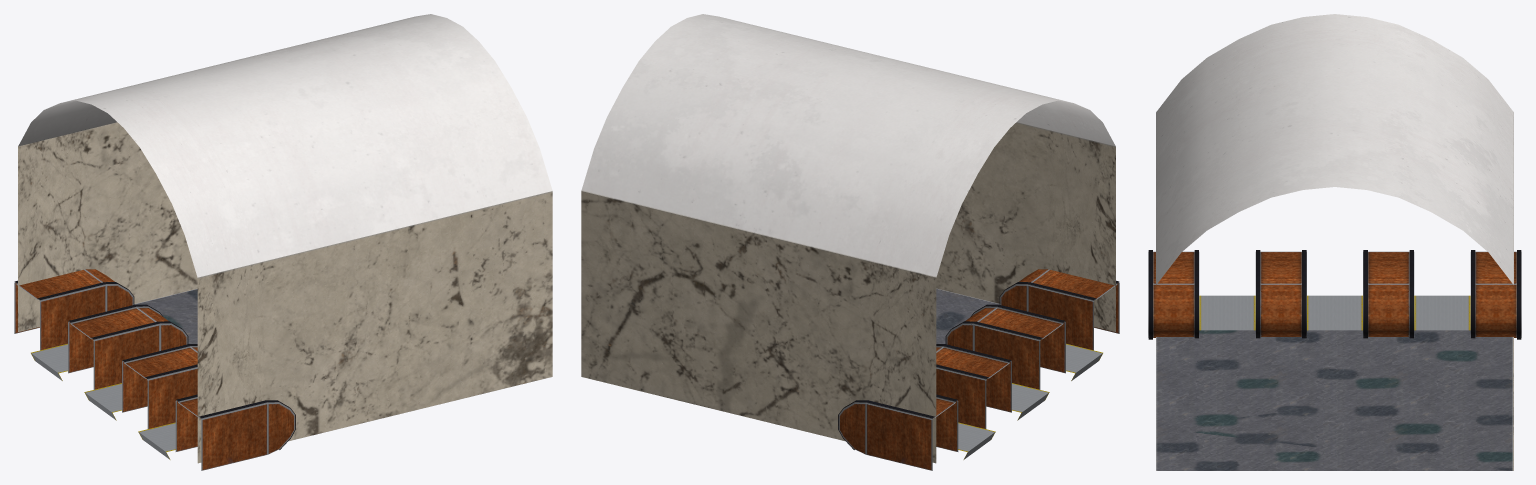
Rendered from interchange escalator top part.fbx.
The picture shows the model from 3 angles, left to right: view 1: azimuth 30°, elevation 25°; view 2: azimuth 150°, elevation 25°; view 3: azimuth 270°, elevation 25°; orthographic projection.
Visible parts, largest first — view 1: escalatop top part; view 2: escalatop top part; view 3: escalatop top part.
Part boxes in pixels (<box>): escalatop top part: <box>14,14,552,470</box>; escalatop top part: <box>581,14,1119,470</box>; escalatop top part: <box>1148,14,1521,470</box>.
Size of the model in its own units: 730 by 821 by 638.
